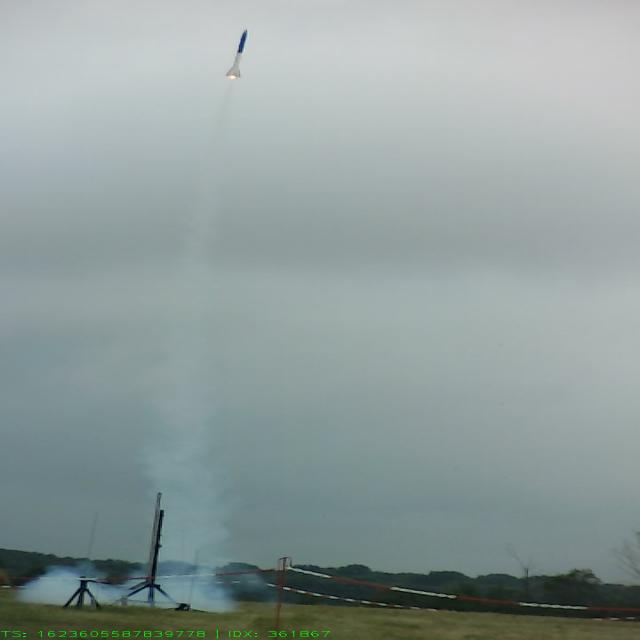Rocket: (226, 28, 250, 78)
